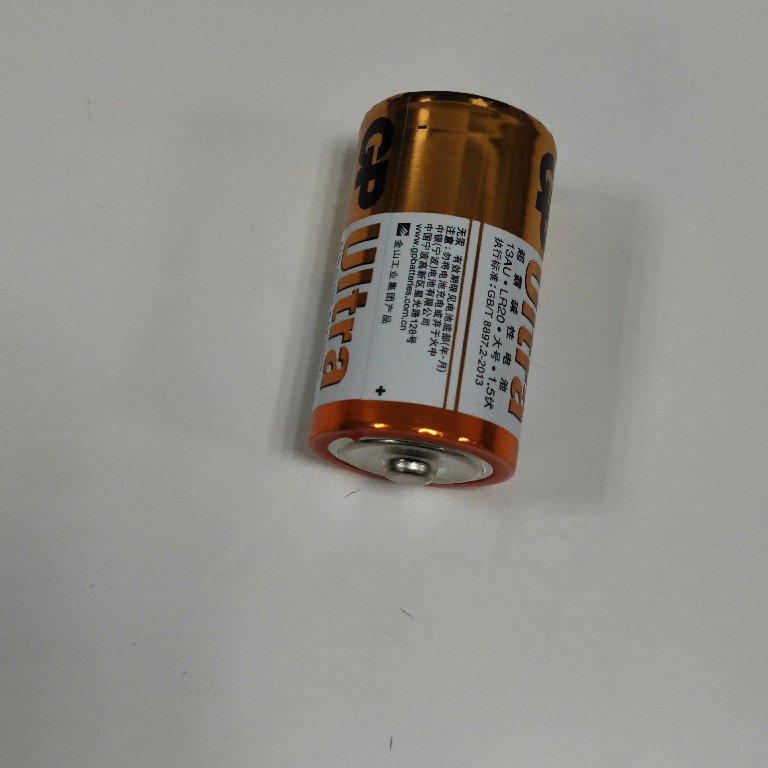charge: (302, 82, 559, 496)
